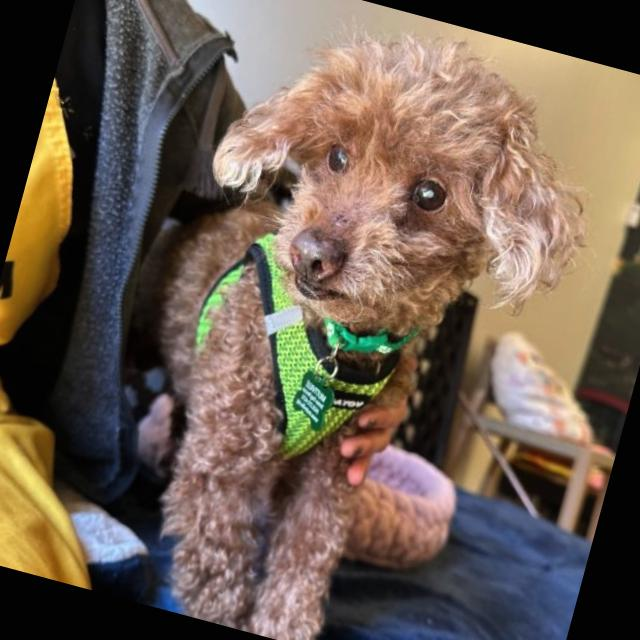Poodle_dog: (147, 0, 628, 415)
